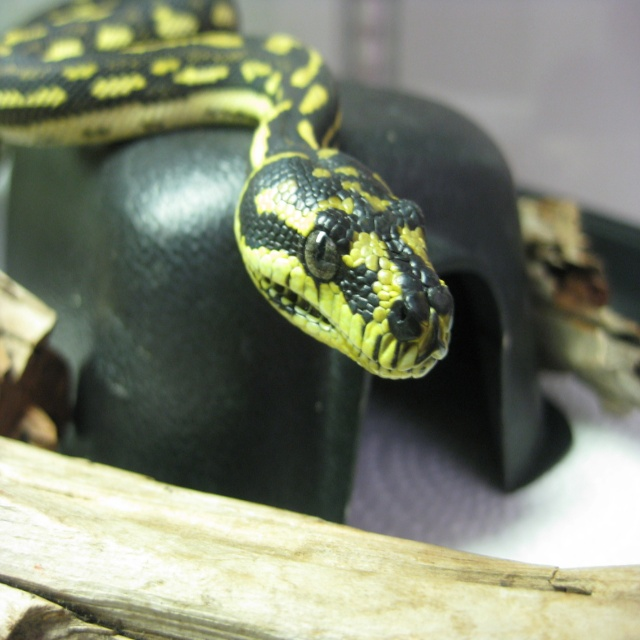Snake: (0, 0, 454, 380)
